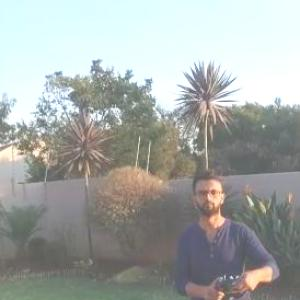follow: (170, 161, 289, 299)
